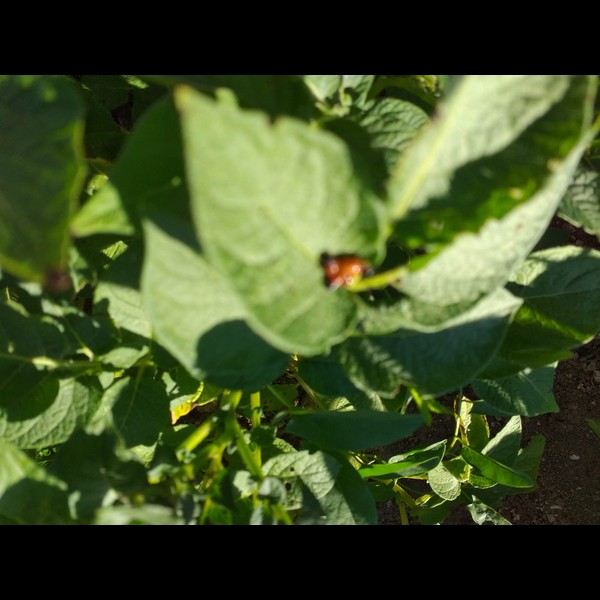hrosc: (322, 250, 366, 296)
